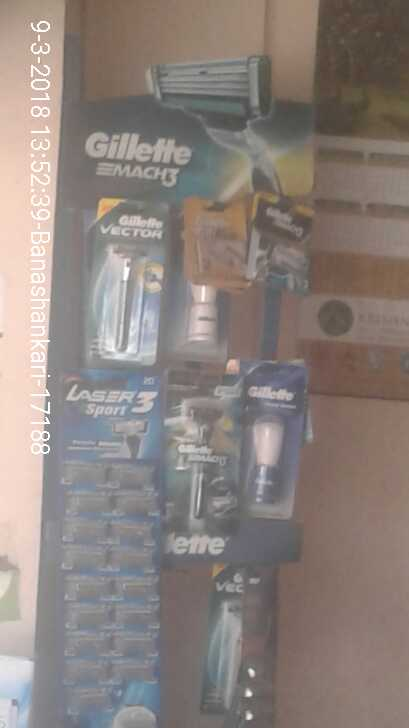gillette: (88, 193, 164, 374), (164, 373, 246, 532), (248, 356, 304, 529), (251, 190, 318, 290)
